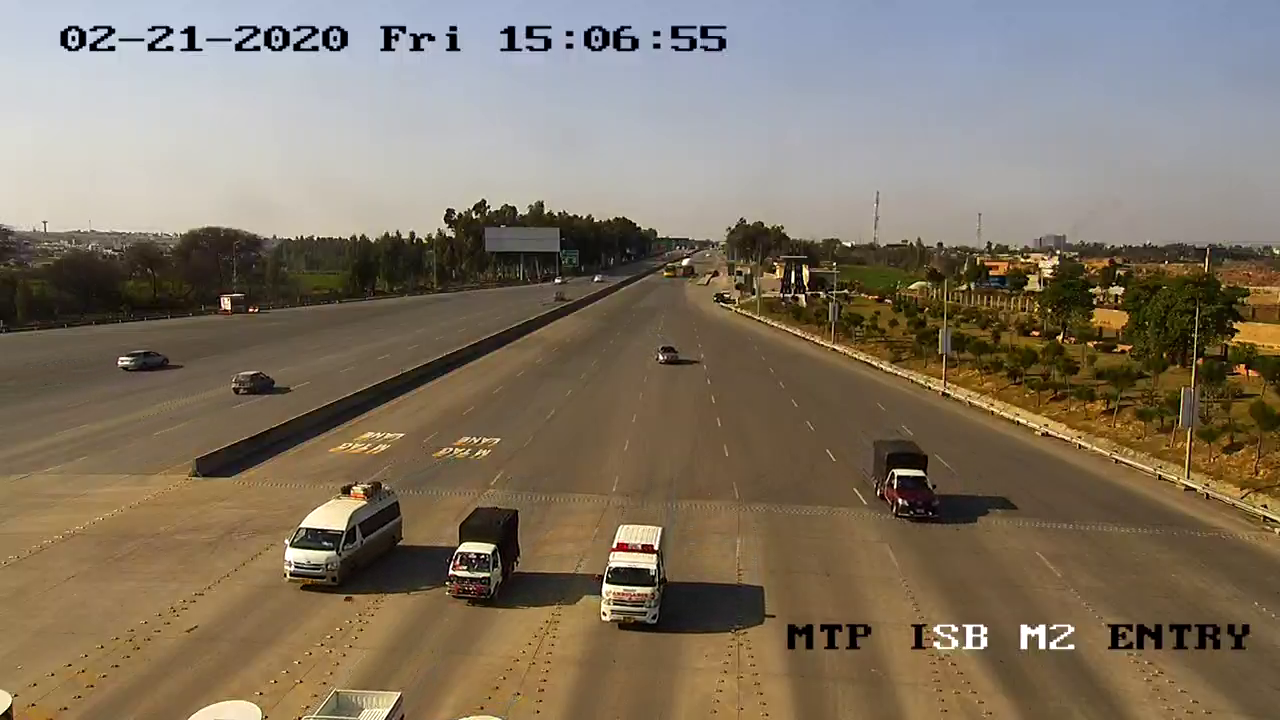f1: (440, 499, 522, 612)
f2: (591, 517, 674, 635), (865, 424, 946, 541)
f3: (269, 477, 412, 603)
